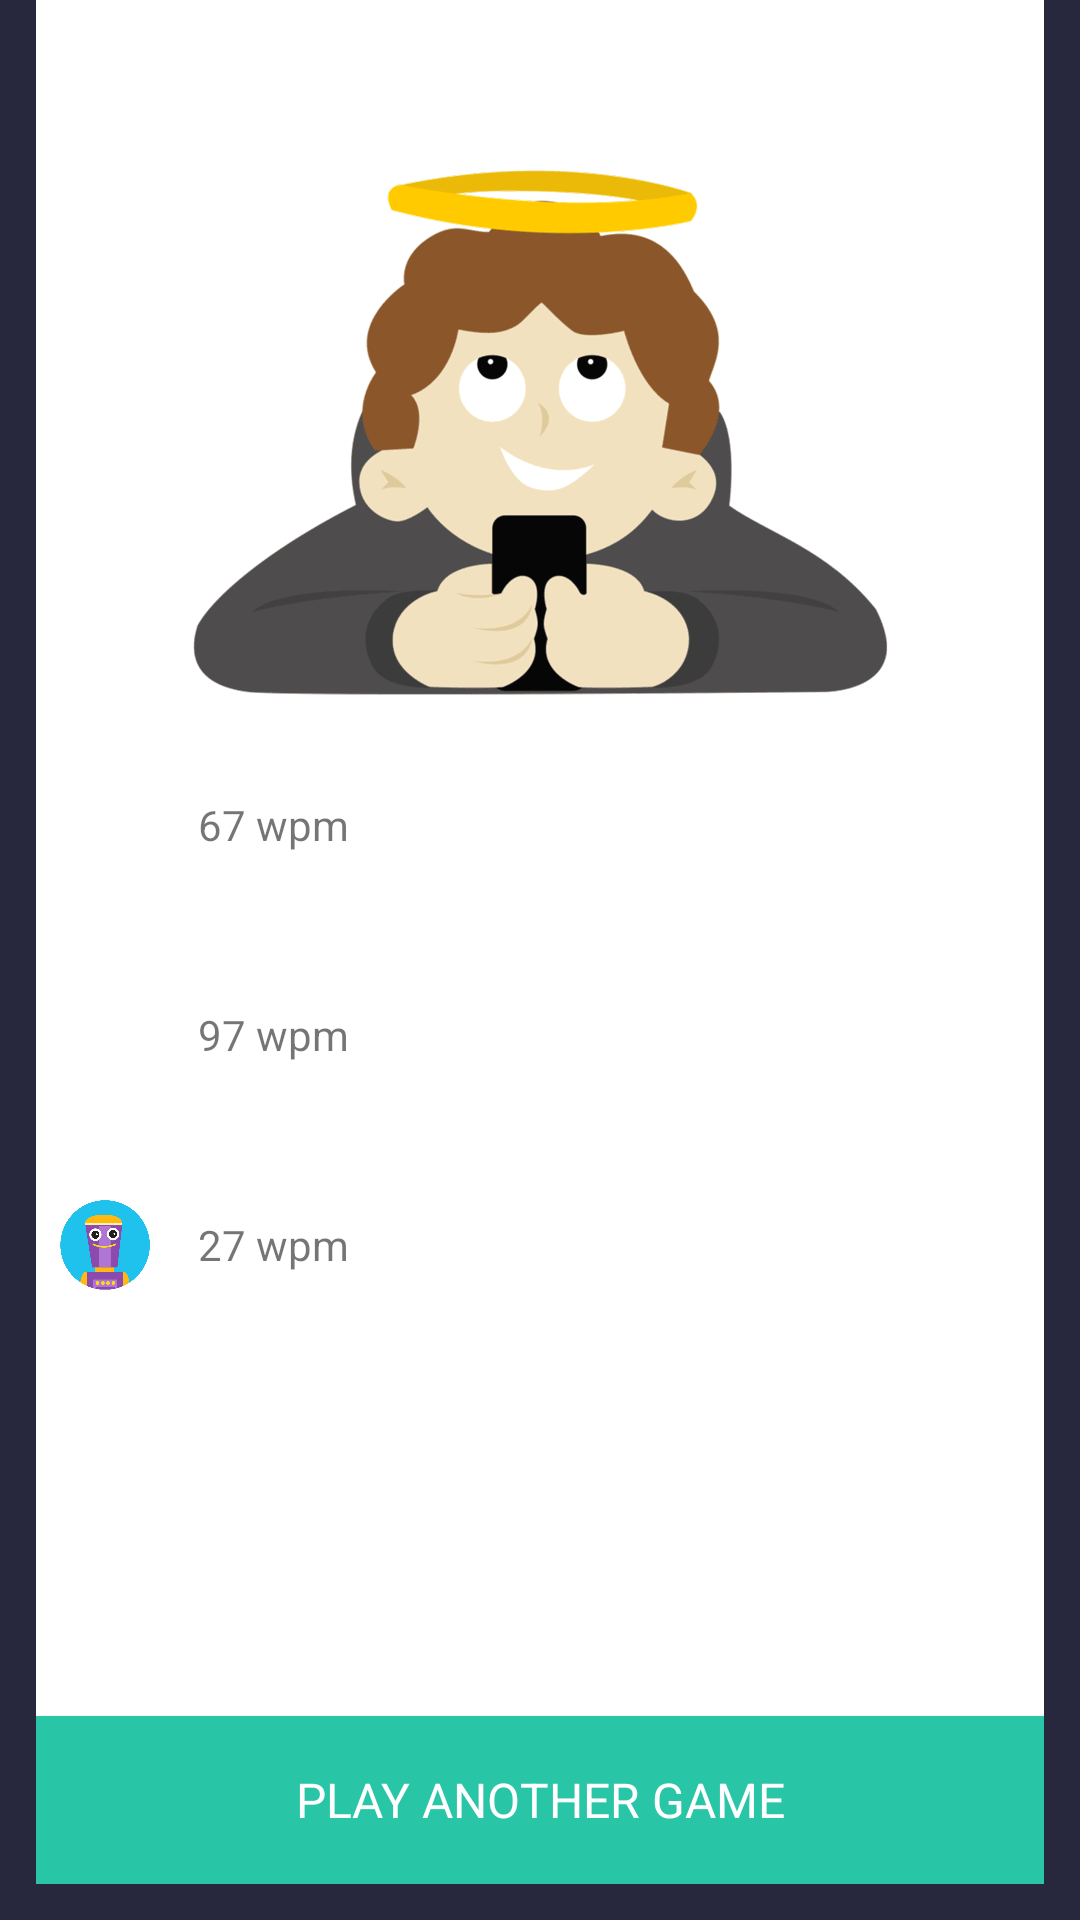

Screen size 1080 x 1920. Icon name, then its box in pixels as BBox(x1, y1, x2, y2):
robo: BBox(60, 1200, 150, 1290)
